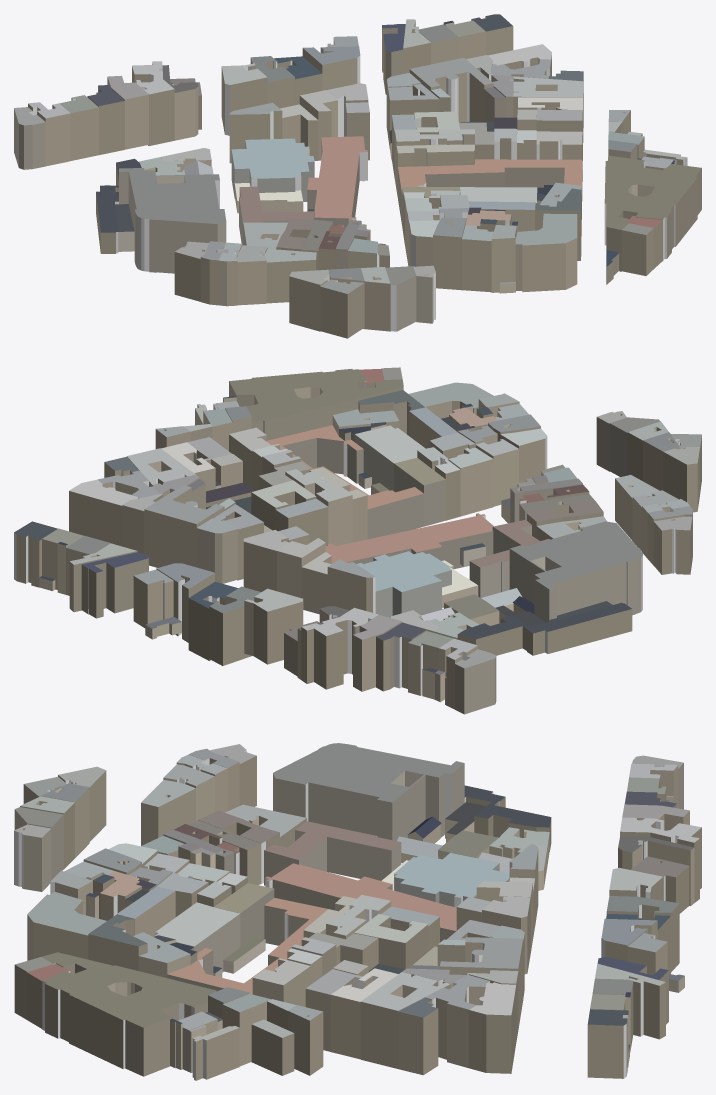
3 views of the same model, one above another, from view 1: azimuth 30°, elevation 25°; view 2: azimuth 150°, elevation 25°; view 3: azimuth 270°, elevation 25° (orthographic). The views are drawn at different scales.
Visible parts, largest first — view 1: tuile; view 2: tuile; view 3: tuile.
Boxes of the visible parts, left/top/right/bottom form: tuile: left=14, top=14, right=701, bottom=338; tuile: left=14, top=367, right=701, bottom=714; tuile: left=14, top=743, right=701, bottom=1080.
Bounding box in the file's own units: 267 × 35.56 × 270.
